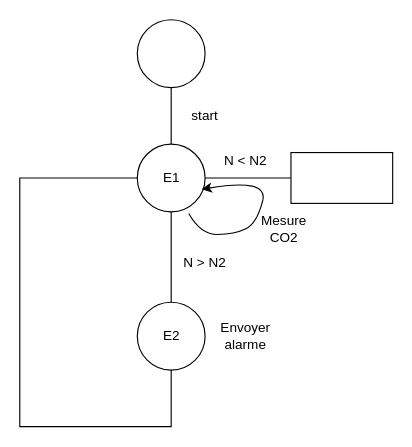
Some shapes in this 412 by 447 pixel diagram are drawn without their labels. Each missing label, with the box of its shape:
E0: (136, 19, 205, 88)
Signal panneau de controle: (290, 151, 393, 203)
